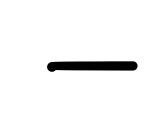minus: (47, 62, 138, 71)
